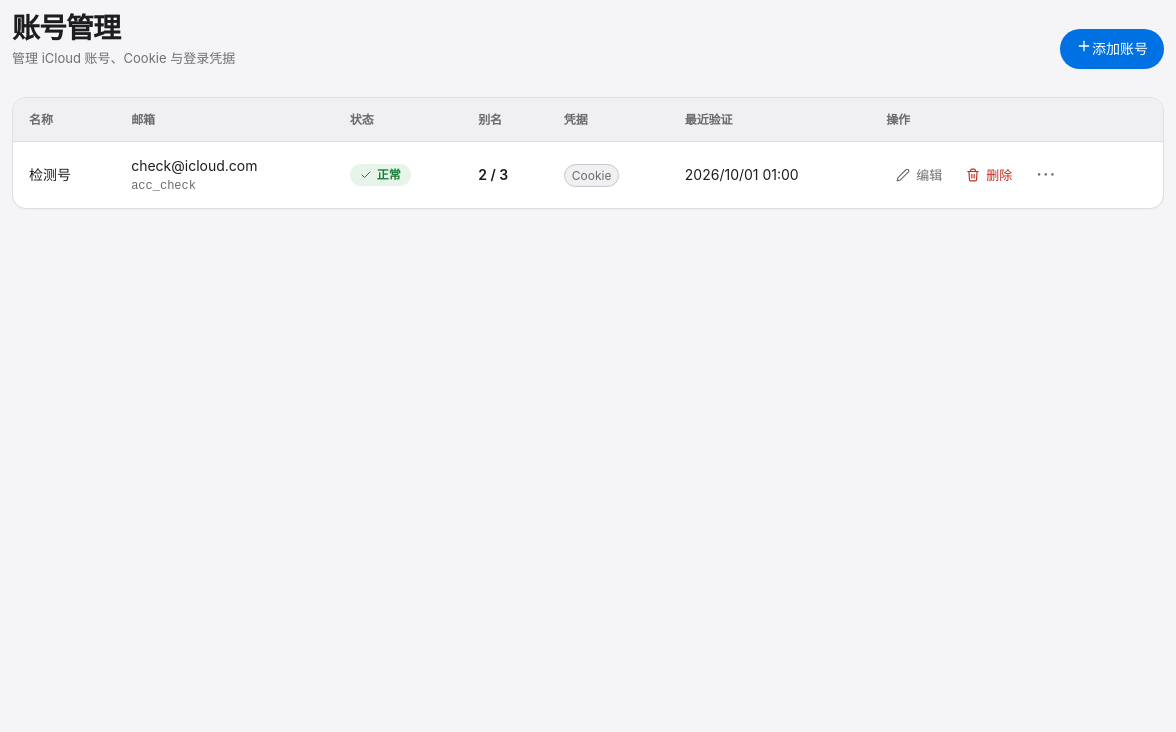
Test: AccountsPage 登录态检测 › 检测失败(会话失效): 提示需重新登录
The width and height of the screenshot is (1176, 732).
Expected: the text "检测号" is shown, x1=29 y1=166 x2=71 y2=183
Click the button named "更多操作" at (1046, 175), box x1=1026 y1=155 x2=1066 y2=195
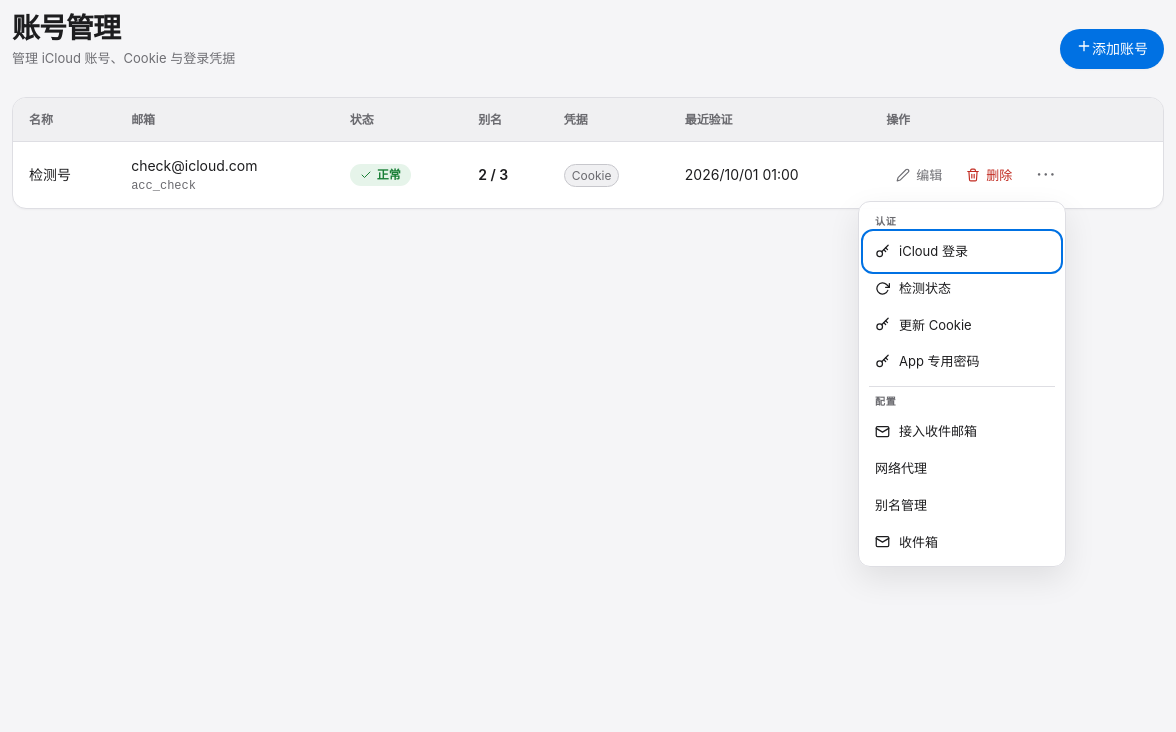
Click the menu item "检测状态" at (962, 288), box x1=865 y1=270 x2=1059 y2=307
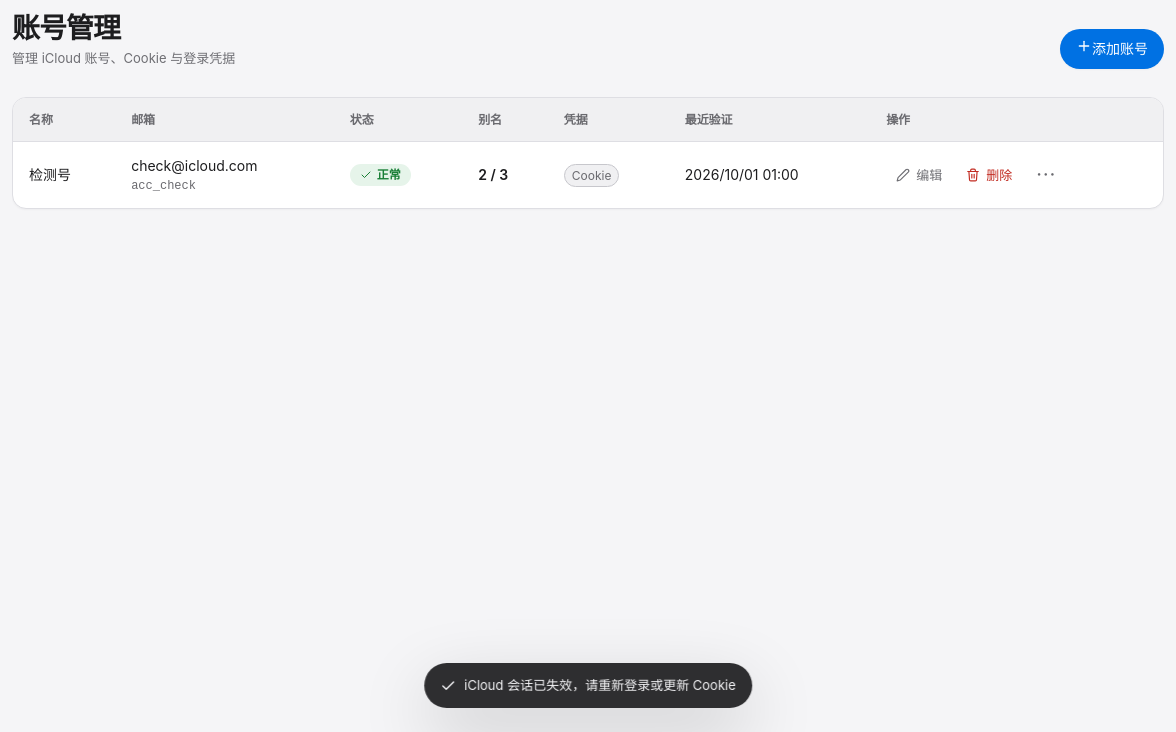
Expected: the text "iCloud 会话已失效，请重新登录或更新 Cookie" is shown, x1=464 y1=675 x2=736 y2=696
